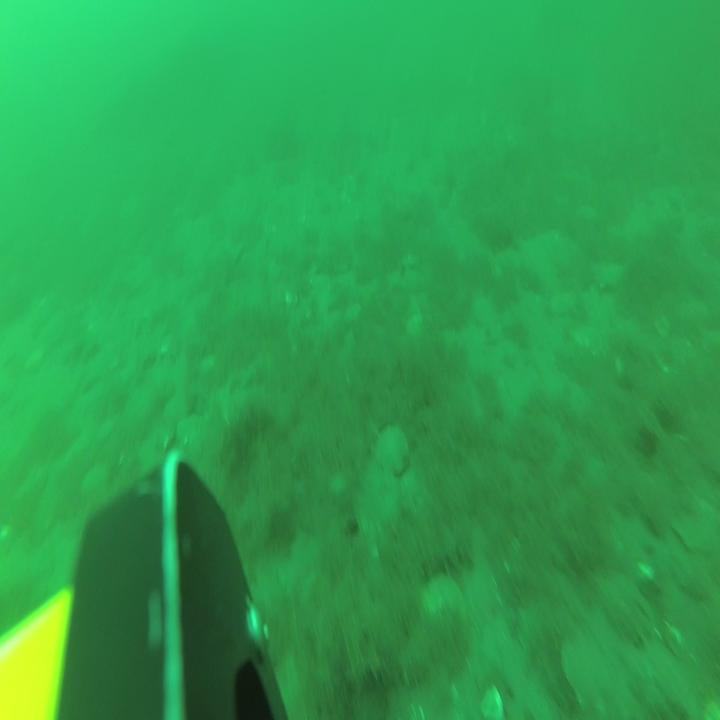scallop: (559, 633, 609, 720), (419, 570, 469, 636), (374, 424, 411, 483)
